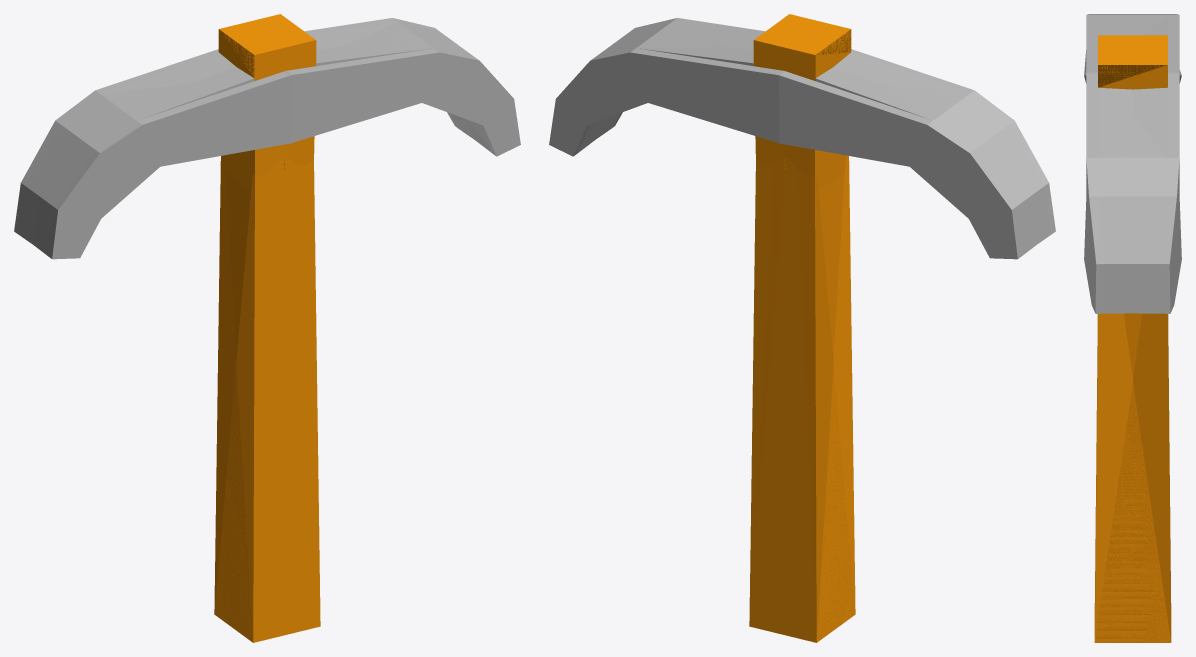
File: pickaxe.gltf
The picture shows the model from 3 angles, left to right: view 1: azimuth 30°, elevation 25°; view 2: azimuth 150°, elevation 25°; view 3: azimuth 270°, elevation 25°; orthographic projection.
Visible parts, largest first — view 1: Cube; view 2: Cube; view 3: Cube.
Boxes of the visible parts, x1,y1,x2,y2 form: Cube: (14,14,520,642); Cube: (549,14,1055,642); Cube: (1084,14,1181,642).
Size of the model in its own units: 3.27 by 3.9 by 0.5994.
